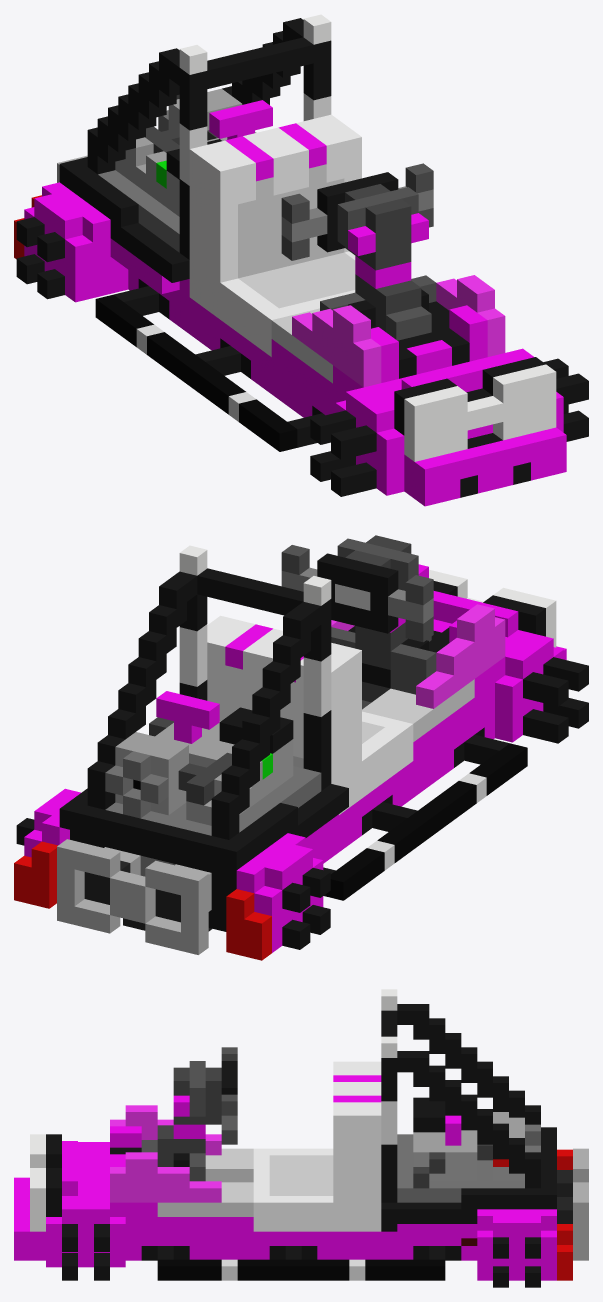
Rendered from Pink_Kart_Chassis.obj.
The picture shows the model from 3 angles, top to bottom: view 1: azimuth 30°, elevation 25°; view 2: azimuth 150°, elevation 25°; view 3: azimuth 270°, elevation 25°; orthographic projection. The views are drawn at different scales.
Bounding box in the file's own units: 1.6 × 1.6 × 3.6.
1 material, 1 textured.
